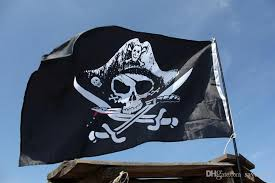Jolly Roger Flag: (15, 25, 238, 169)
